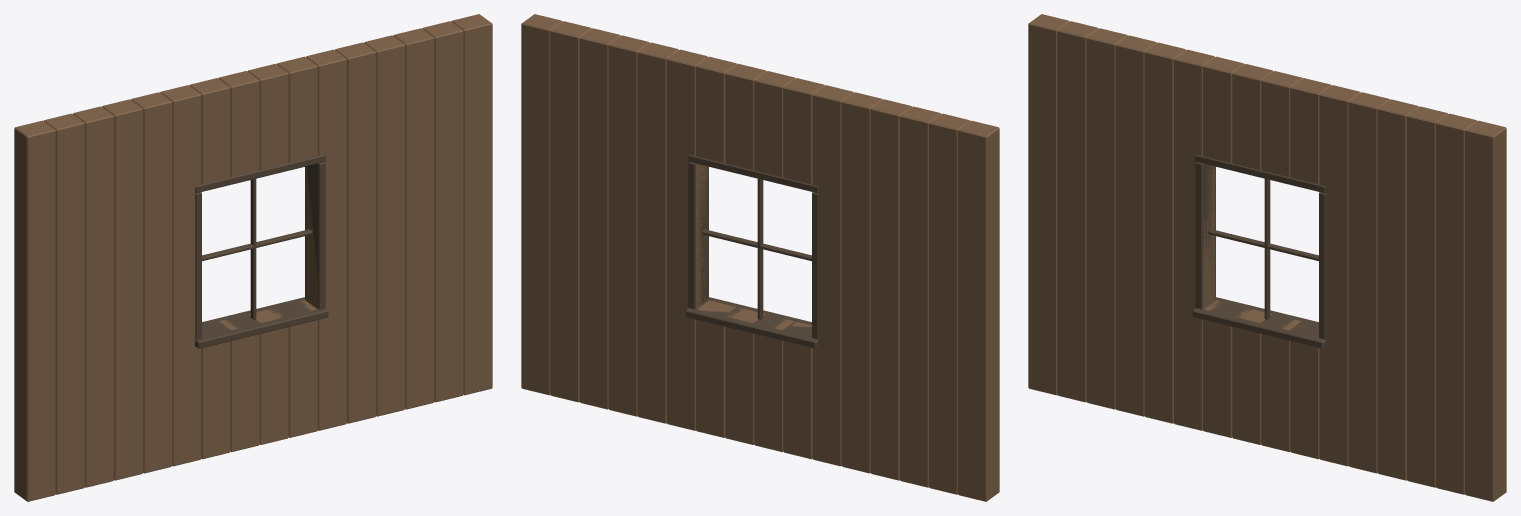
File: SM_Wall_Window.fbx
3 renders of one model, left to right at view 1: azimuth 30°, elevation 25°; view 2: azimuth 150°, elevation 25°; view 3: azimuth 330°, elevation 25°, orthographic.
Visible parts, largest first — view 1: SM_Wall_Window; view 2: SM_Wall_Window; view 3: SM_Wall_Window.
Part boxes in pixels (bbox=[...]): SM_Wall_Window: bbox=[14, 14, 492, 501]; SM_Wall_Window: bbox=[521, 14, 999, 501]; SM_Wall_Window: bbox=[1028, 14, 1506, 501].
Size of the model in its own units: 4 by 3 by 0.3.
